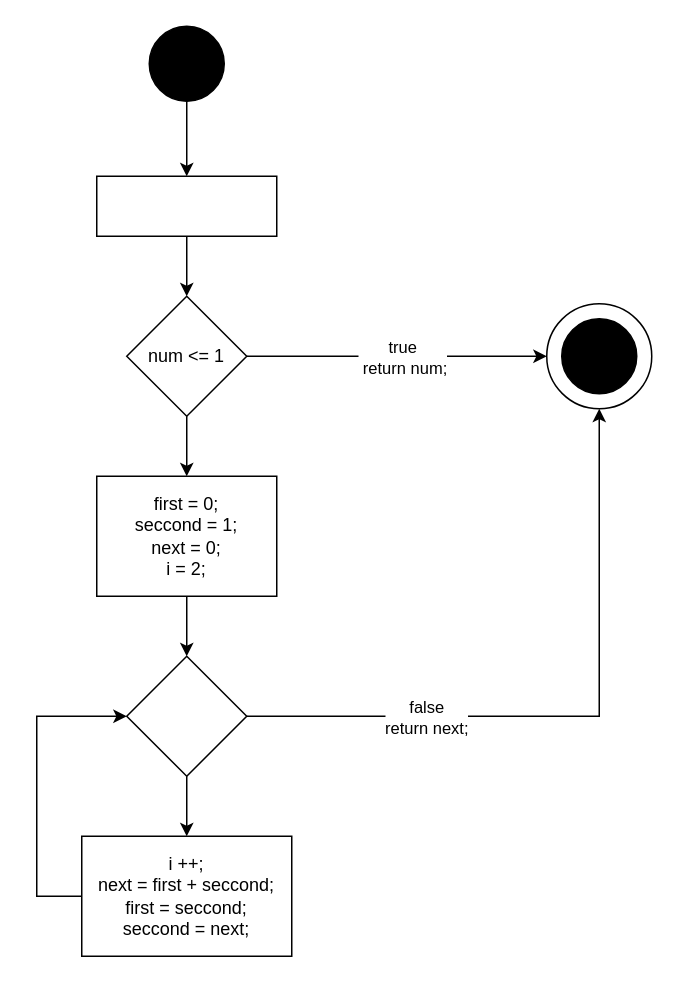
The diagram is 678 pixels wide and 983 high, and some of its shapes have lost their labels. Here are the shapes that lost their labels. From the top down, the box of each, then its label:
(95, 175, 277, 236): Set Up int num;
(125, 655, 247, 776): i <= num
